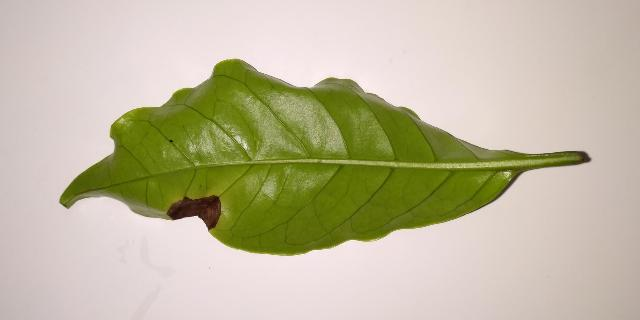rust: (166, 195, 221, 230)
